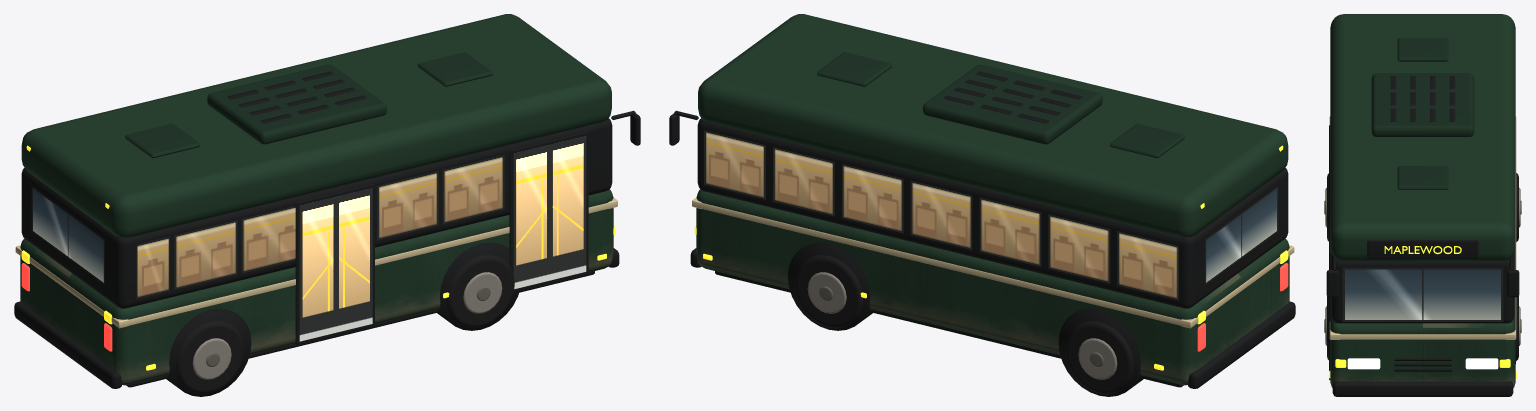
File: maplewood_bus.glb
3 renders of one model, left to right at view 1: azimuth 30°, elevation 25°; view 2: azimuth 150°, elevation 25°; view 3: azimuth 270°, elevation 25°, orthographic. The views are drawn at different scales.
Parts seen in each view (by area): view 1: model; view 2: model; view 3: model.
Part boxes in pixels (bbox=[...]): model: bbox=[14, 14, 640, 396]; model: bbox=[669, 14, 1295, 396]; model: bbox=[1324, 14, 1521, 396].
Size of the model in its own units: 6.64 by 2.74 by 2.41.
15 materials, 5 textured.
